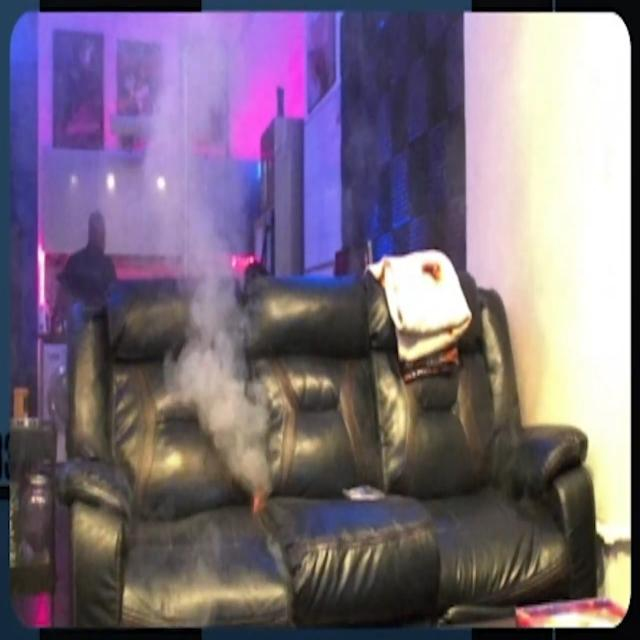Smoke: (188, 306, 278, 484)
